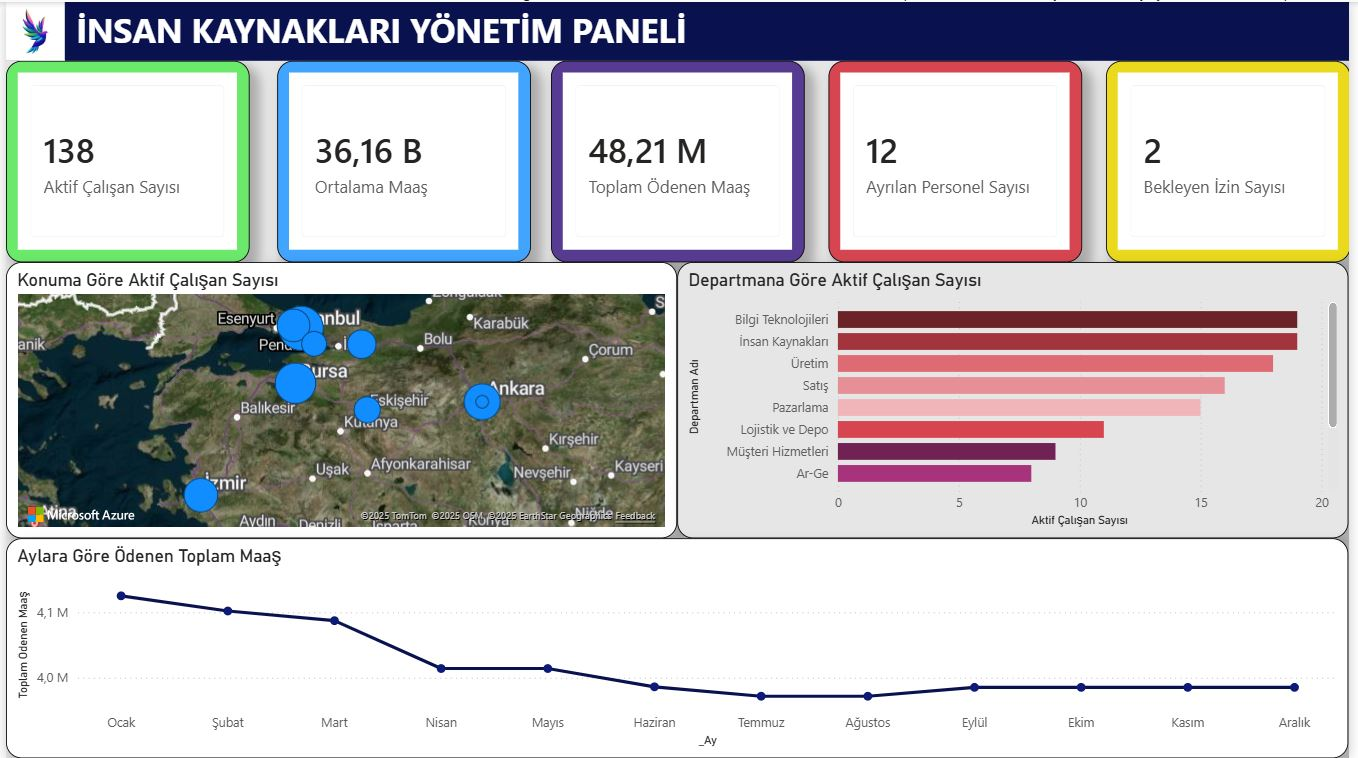

The page's visual inventory and layout, read from the dashboard file:
{"tool":"powerbi","page":{"name":"1. sayfa","canvas":[1280,720],"ordinal":0},"visuals":[{"type":"textbox","box":[0,0,1279.8,56],"z":0},{"type":"cardVisual","fields":{"Data":["Calisanlar.Aktif Çalışan Sayısı"]},"box":[0,55.5,231.6,191.8],"z":1000},{"type":"cardVisual","fields":{"Data":["Calisanlar.Ortalama Maaş"]},"box":[258.3,56,241.7,191.7],"z":2000},{"type":"cardVisual","fields":{"Data":["Bordro.Toplam Ödenen Maaş"]},"box":[518.8,55.5,241.3,191.8],"z":3000},{"type":"cardVisual","fields":{"Data":["Calisanlar.Ayrılan Personel Sayısı"]},"box":[783,55.5,241.3,191.8],"z":4000},{"type":"cardVisual","fields":{"Data":["Izinler.Bekleyen İzin Sayısı"]},"box":[1047.2,55.5,232.8,191.8],"z":5000},{"type":"image","box":[0,0,56,56],"z":6000},{"type":"azureMap","title":"Konuma Göre Aktif Çalışan Sayısı","fields":{"Category":["Departmanlar.Tam Konum"],"Size":["Calisanlar.Aktif Çalışan Sayısı"]},"box":[0,247.6,639.3,263.1],"z":7000},{"type":"clusteredBarChart","title":"Departmana Göre Aktif Çalışan Sayısı","fields":{"Category":["Departmanlar.departman_adi"],"Y":["Calisanlar.Aktif Çalışan Sayısı"]},"box":[639.3,247.6,639.3,263.1],"z":8000},{"type":"lineChart","title":"Aylara Göre Ödenen Toplam Maaş","fields":{"Category":["Bordro.Ay Adı"],"Y":["Bordro.Toplam Ödenen Maaş"]},"box":[0,510.7,1278.6,209.5],"z":9000}]}

Visuals, with their boxes in screenshot pixels (x1, y1, x2, y2), scaled from the page's 1280x720 canvas onto the 1358x758 screenshot:
textbox: box(0, 0, 1357, 59)
cardVisual - Calisanlar.Aktif Çalışan Sayısı: box(0, 58, 246, 260)
cardVisual - Calisanlar.Ortalama Maaş: box(274, 59, 530, 261)
cardVisual - Bordro.Toplam Ödenen Maaş: box(550, 58, 806, 260)
cardVisual - Calisanlar.Ayrılan Personel Sayısı: box(831, 58, 1087, 260)
cardVisual - Izinler.Bekleyen İzin Sayısı: box(1111, 58, 1357, 260)
image: box(0, 0, 59, 59)
"Konuma Göre Aktif Çalışan Sayısı" azureMap: box(0, 261, 678, 538)
"Departmana Göre Aktif Çalışan Sayısı" clusteredBarChart: box(678, 261, 1357, 538)
"Aylara Göre Ödenen Toplam Maaş" lineChart: box(0, 538, 1357, 757)
